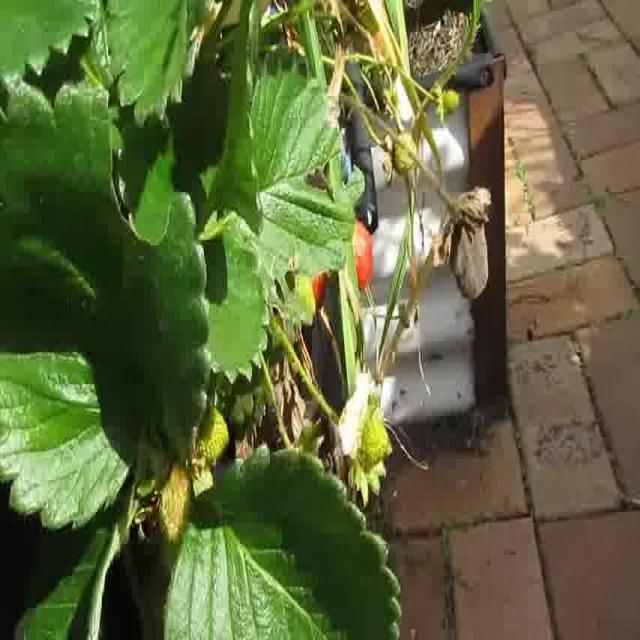Fruta sana: (154, 466, 192, 542), (190, 395, 230, 465), (339, 214, 376, 288), (390, 121, 420, 175), (297, 263, 327, 314)
Moho gris: (442, 194, 490, 298)
